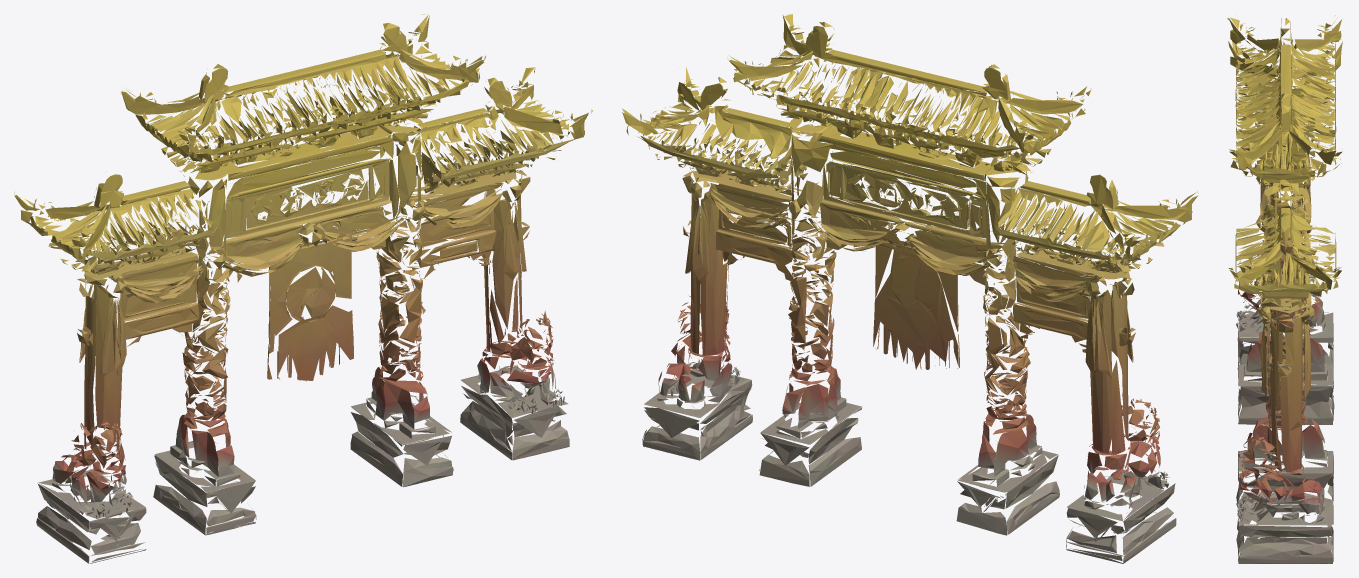
Rendered from building_temple.glb.
3 renders of one model, left to right at view 1: azimuth 30°, elevation 25°; view 2: azimuth 150°, elevation 25°; view 3: azimuth 270°, elevation 25°, orthographic. The views are drawn at different scales.
Parts seen in each view (by area): view 1: world; view 2: world; view 3: world.
Part boxes in pixels (x1,y1,x2,y2): world: (14, 14, 592, 563); world: (622, 14, 1198, 563); world: (1227, 15, 1342, 563).
Bounding box in the file's own units: 0.9691 × 0.7868 × 0.2075.
